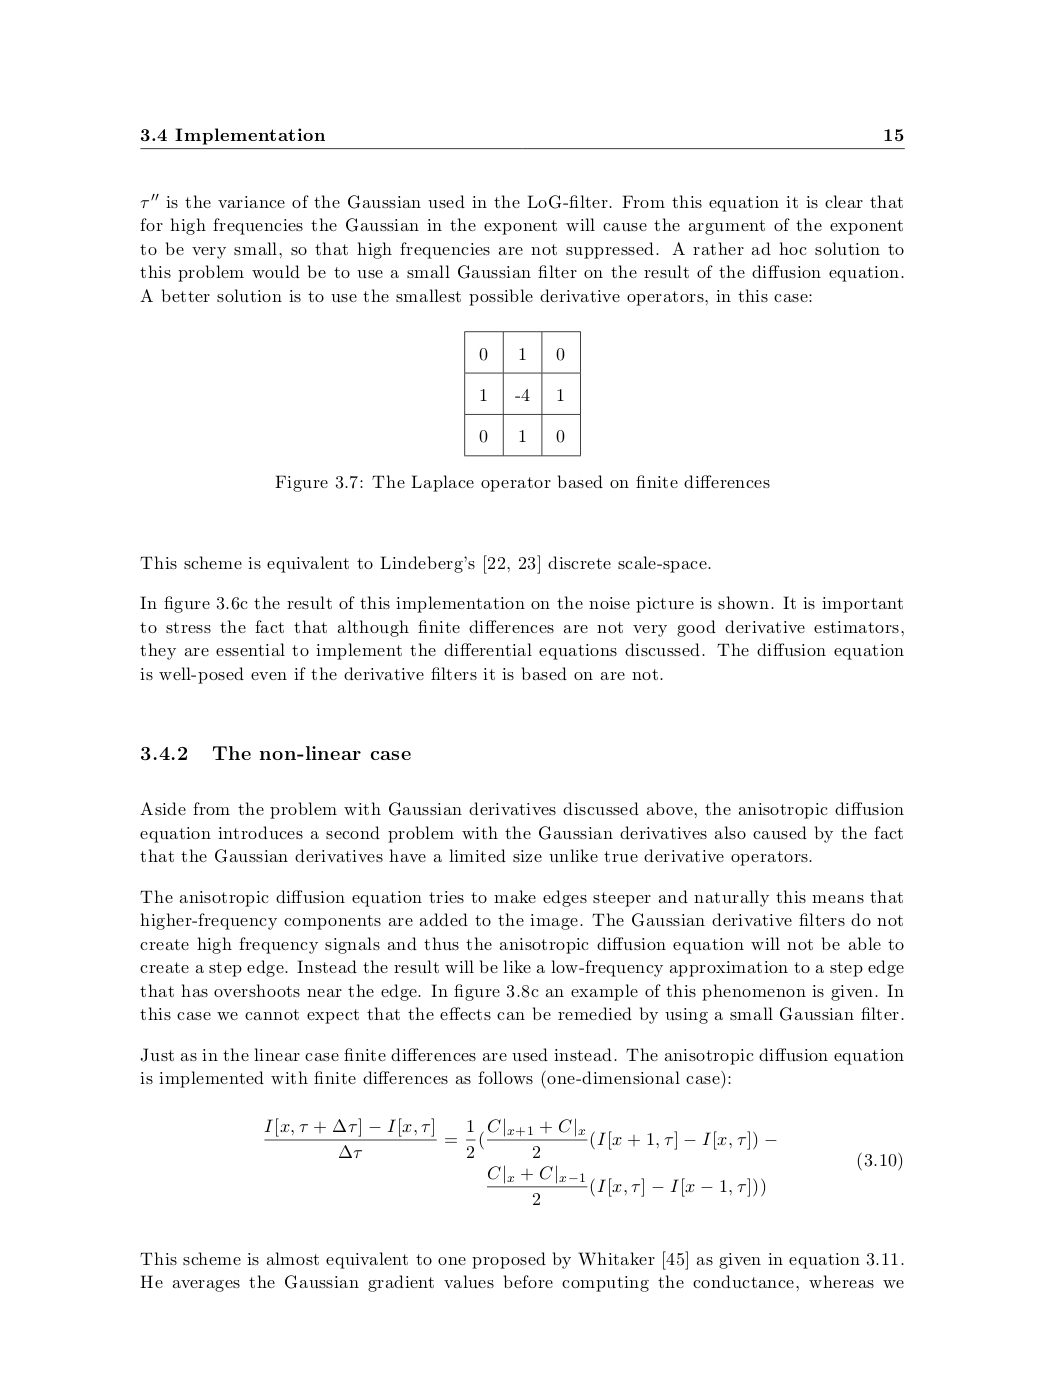Table: (464, 330, 580, 457)
formula: (264, 1117, 902, 1205)
